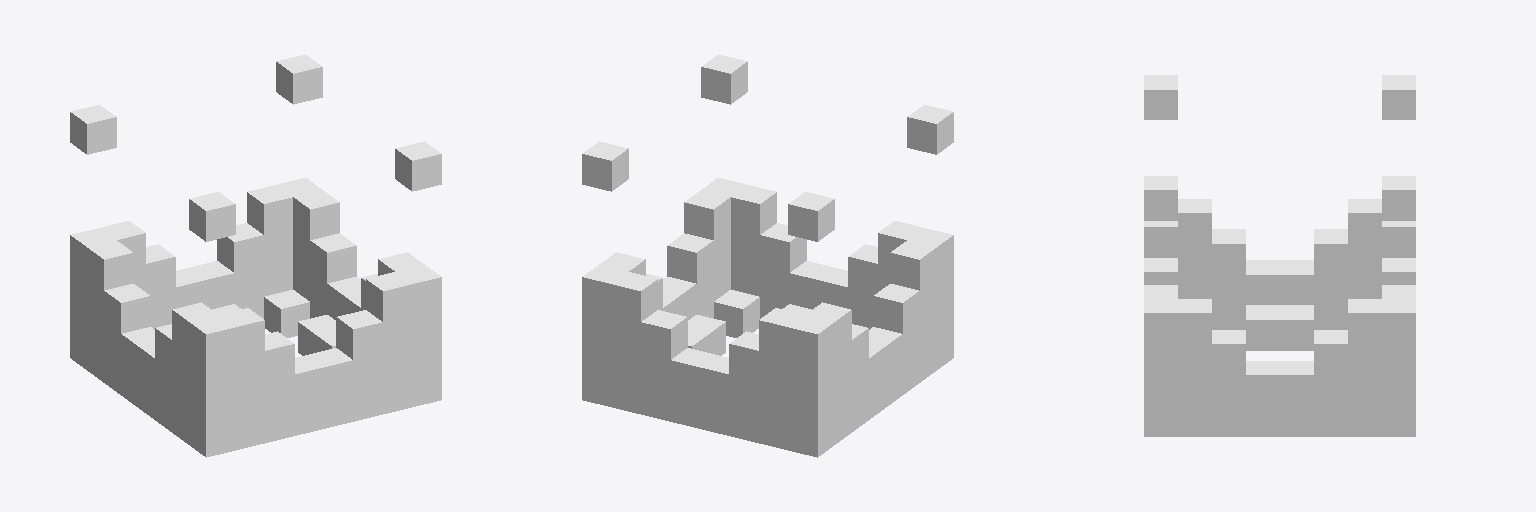
File: BridgeSource.obj
The picture shows the model from 3 angles: view 1: azimuth 30°, elevation 25°; view 2: azimuth 150°, elevation 25°; view 3: azimuth 270°, elevation 25°; orthographic projection.
Visible parts, largest first — view 1: BridgeSource; view 2: BridgeSource; view 3: BridgeSource.
Part boxes in pixels (left/top/right/bottom): BridgeSource: left=70, top=54, right=441, bottom=457; BridgeSource: left=582, top=54, right=953, bottom=457; BridgeSource: left=1144, top=75, right=1415, bottom=436.
Size of the model in its own units: 8 by 8 by 8.